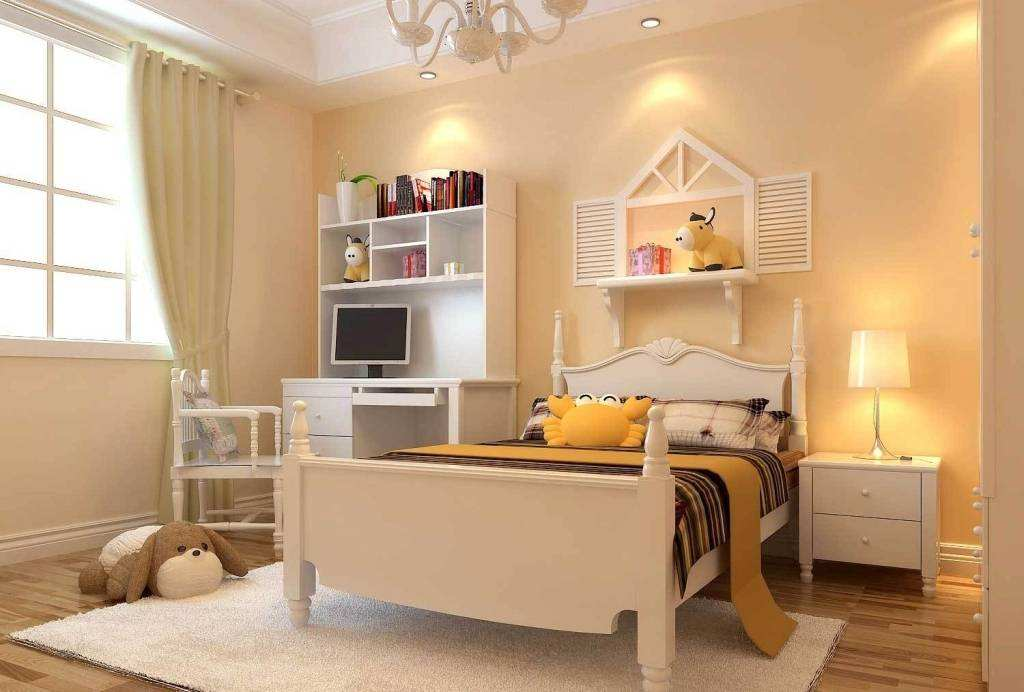床: (246, 440, 757, 648)
枕头: (646, 397, 773, 461)
灯: (374, 2, 573, 83), (840, 331, 916, 467), (632, 17, 663, 34)
